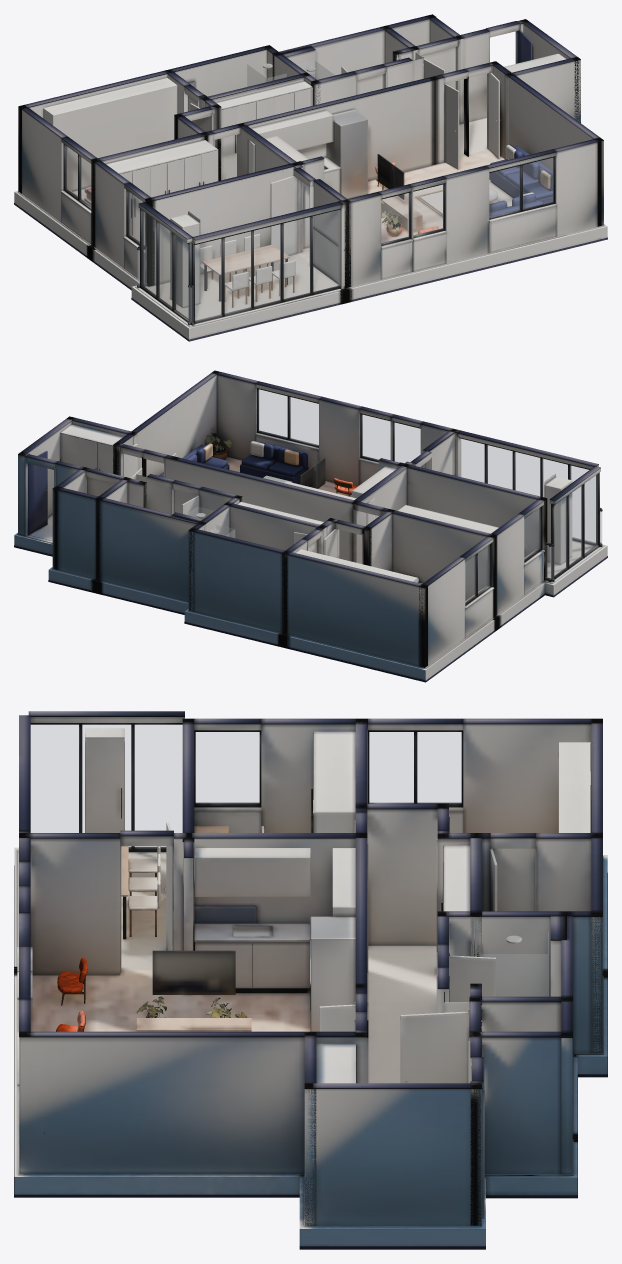
3 renders of one model, top to bottom at view 1: azimuth 30°, elevation 25°; view 2: azimuth 150°, elevation 25°; view 3: azimuth 270°, elevation 25°, orthographic. The views are drawn at different scales.
Parts seen in each view (by area): view 1: plan, glass3_m, glass2_m, glass6_m, glass5_m, glass4_m, glass0_m, glass1_m; view 2: plan, glass3_m, glass2_m, glass6_m, glass5_m, glass0_m, glass4_m, glass1_m; view 3: plan, glass2_m, glass0_m, glass1_m, sg.002_m.
Boxes of the visible parts, x1=… form: plan: x1=14, y1=14, x2=607, y2=341; glass3_m: x1=195, y1=210, x2=339, y2=320; glass2_m: x1=142, y1=211, x2=188, y2=319; glass6_m: x1=489, y1=158, x2=553, y2=217; glass5_m: x1=413, y1=184, x2=443, y2=235; glass4_m: x1=381, y1=193, x2=409, y2=243; glass0_m: x1=65, y1=145, x2=90, y2=206; glass1_m: x1=128, y1=191, x2=144, y2=245; plan: x1=14, y1=370, x2=607, y2=682; glass3_m: x1=459, y1=438, x2=595, y2=542; glass2_m: x1=554, y1=474, x2=597, y2=576; glass6_m: x1=258, y1=389, x2=318, y2=445; glass5_m: x1=362, y1=415, x2=390, y2=459; glass0_m: x1=465, y1=545, x2=489, y2=602; glass4_m: x1=394, y1=422, x2=420, y2=462; glass1_m: x1=524, y1=508, x2=540, y2=559; plan: x1=14, y1=711, x2=607, y2=1249; glass2_m: x1=31, y1=725, x2=182, y2=847; glass0_m: x1=369, y1=732, x2=461, y2=803; glass1_m: x1=196, y1=732, x2=259, y2=803; sg.002_m: x1=480, y1=954, x2=548, y2=996.
Bounding box in the file's own units: 13.48 × 2.62 × 8.87.
Materials: 2 (1 with a texture image).
